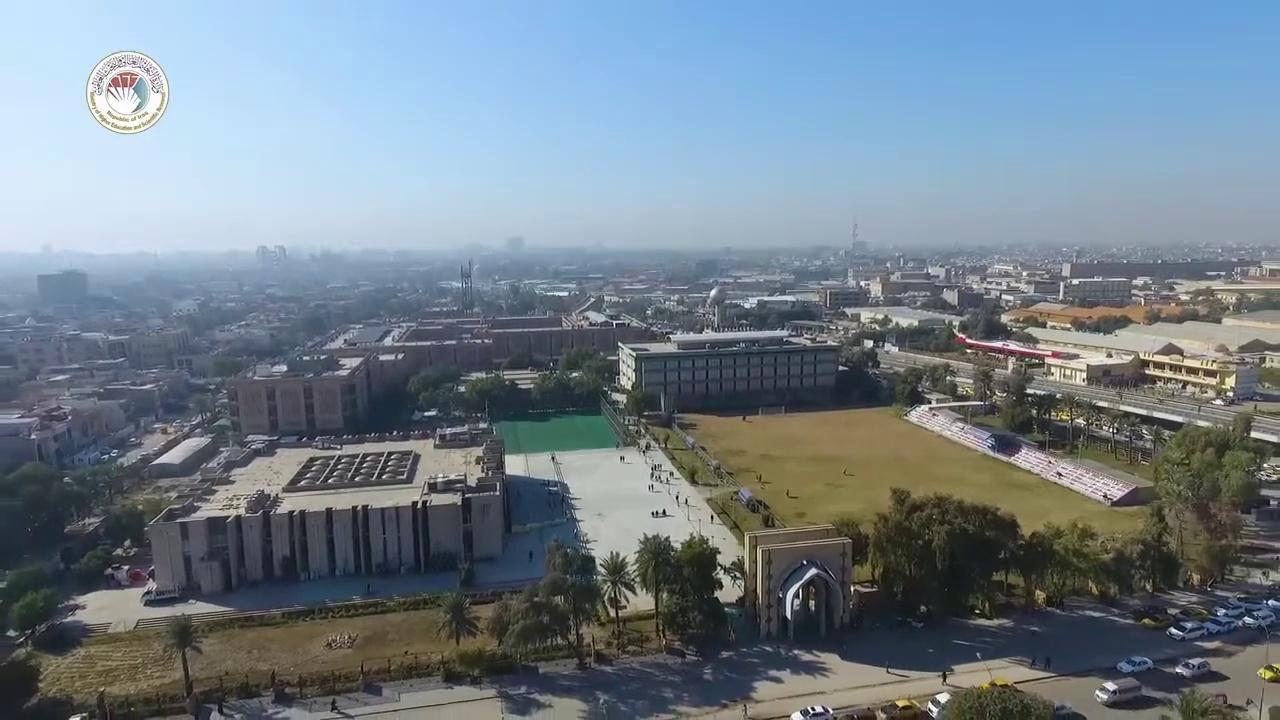car: (1094, 676, 1142, 706), (882, 698, 921, 719), (1174, 657, 1210, 678), (926, 691, 951, 719), (790, 704, 836, 719), (1116, 655, 1153, 673), (1257, 663, 1279, 681), (1053, 703, 1072, 719), (126, 436, 143, 446)
person: (941, 669, 947, 685), (1044, 655, 1050, 669)
tree: (431, 529, 744, 669), (866, 485, 1018, 621), (1150, 418, 1268, 583), (631, 530, 739, 651), (868, 486, 935, 616), (1015, 519, 1104, 610), (537, 571, 606, 668), (670, 534, 724, 637), (632, 531, 677, 644), (944, 681, 1055, 719), (1131, 502, 1176, 593), (596, 549, 637, 641), (1012, 529, 1056, 610), (163, 613, 203, 698), (1158, 686, 1248, 719), (431, 589, 481, 647), (829, 515, 870, 585), (963, 348, 1002, 414), (7, 586, 59, 632), (999, 363, 1034, 430), (464, 372, 507, 423), (484, 594, 520, 649), (1101, 547, 1137, 598), (1056, 389, 1081, 451), (720, 554, 748, 607), (1027, 390, 1059, 433), (971, 363, 995, 415), (1076, 396, 1097, 453), (896, 364, 925, 405), (1120, 411, 1141, 464), (623, 385, 645, 434), (1144, 423, 1170, 463), (924, 361, 950, 393)
